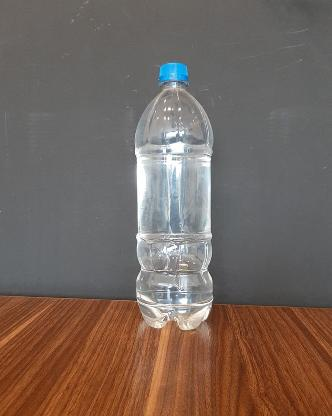Plastic Bottle: (134, 62, 214, 330)
